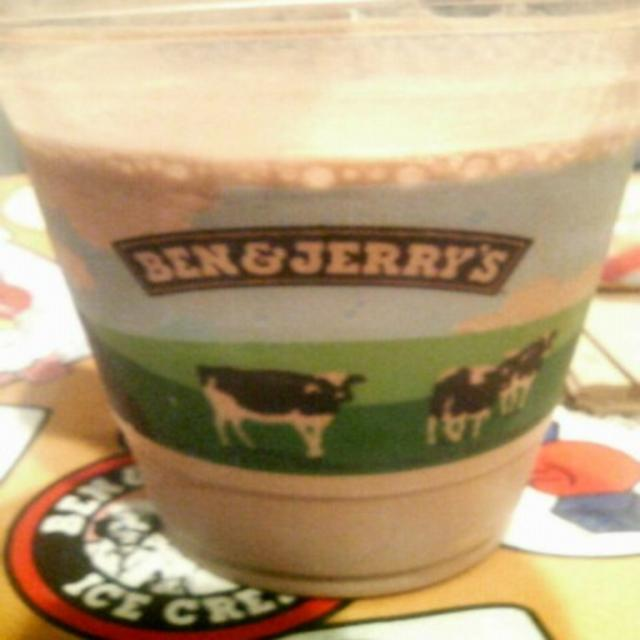Coffee: (21, 19, 616, 621)
